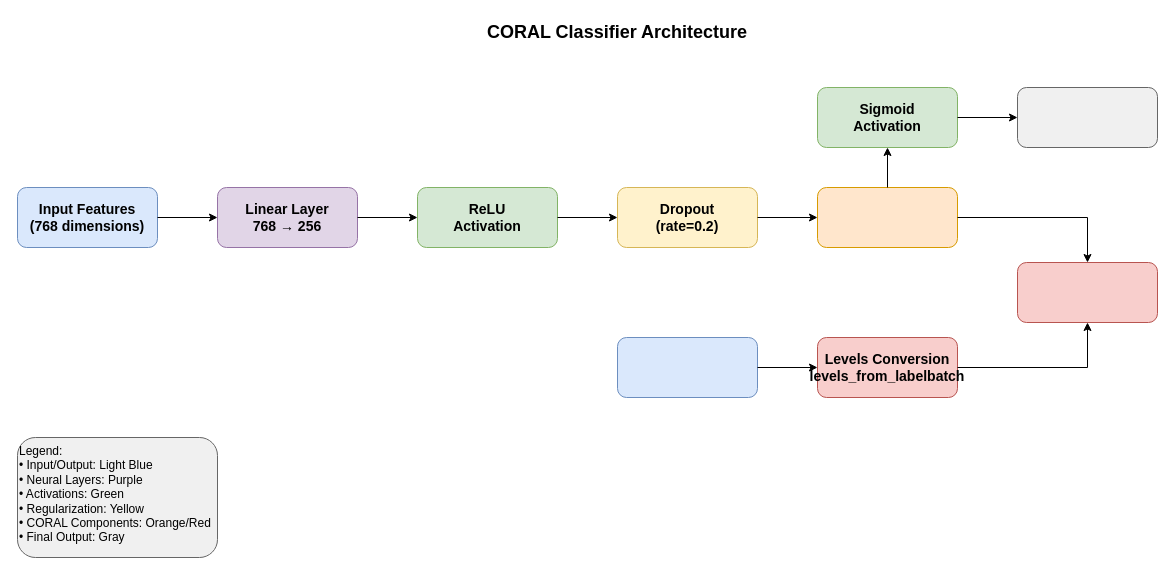
This 1175x575 diagram has some shape labels left out. Here are the shapes that lost their labels. From the top down, the centre of each, then its label:
the point at 1087,117: Prediction proba_to_label
the point at 887,217: CORAL Layer 256 → (num_classes-1)
the point at 1087,292: CORAL Loss coral_loss(logits, levels)
the point at 687,367: True Labels (Class indices)
